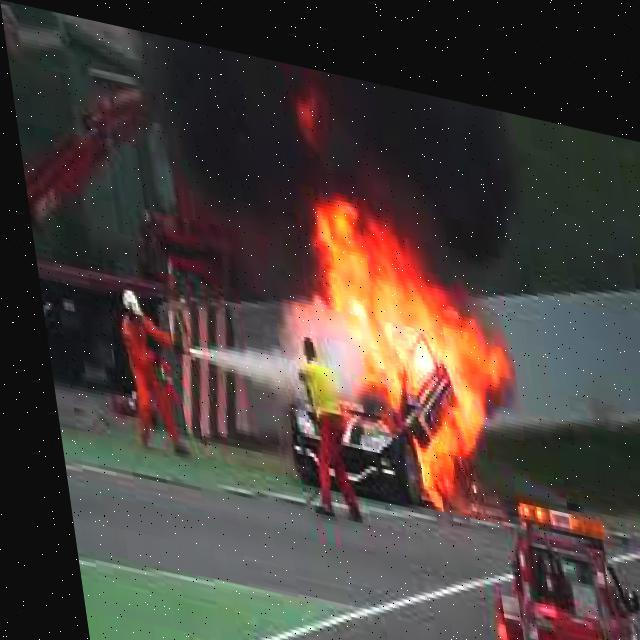Fire: (286, 169, 528, 482)
